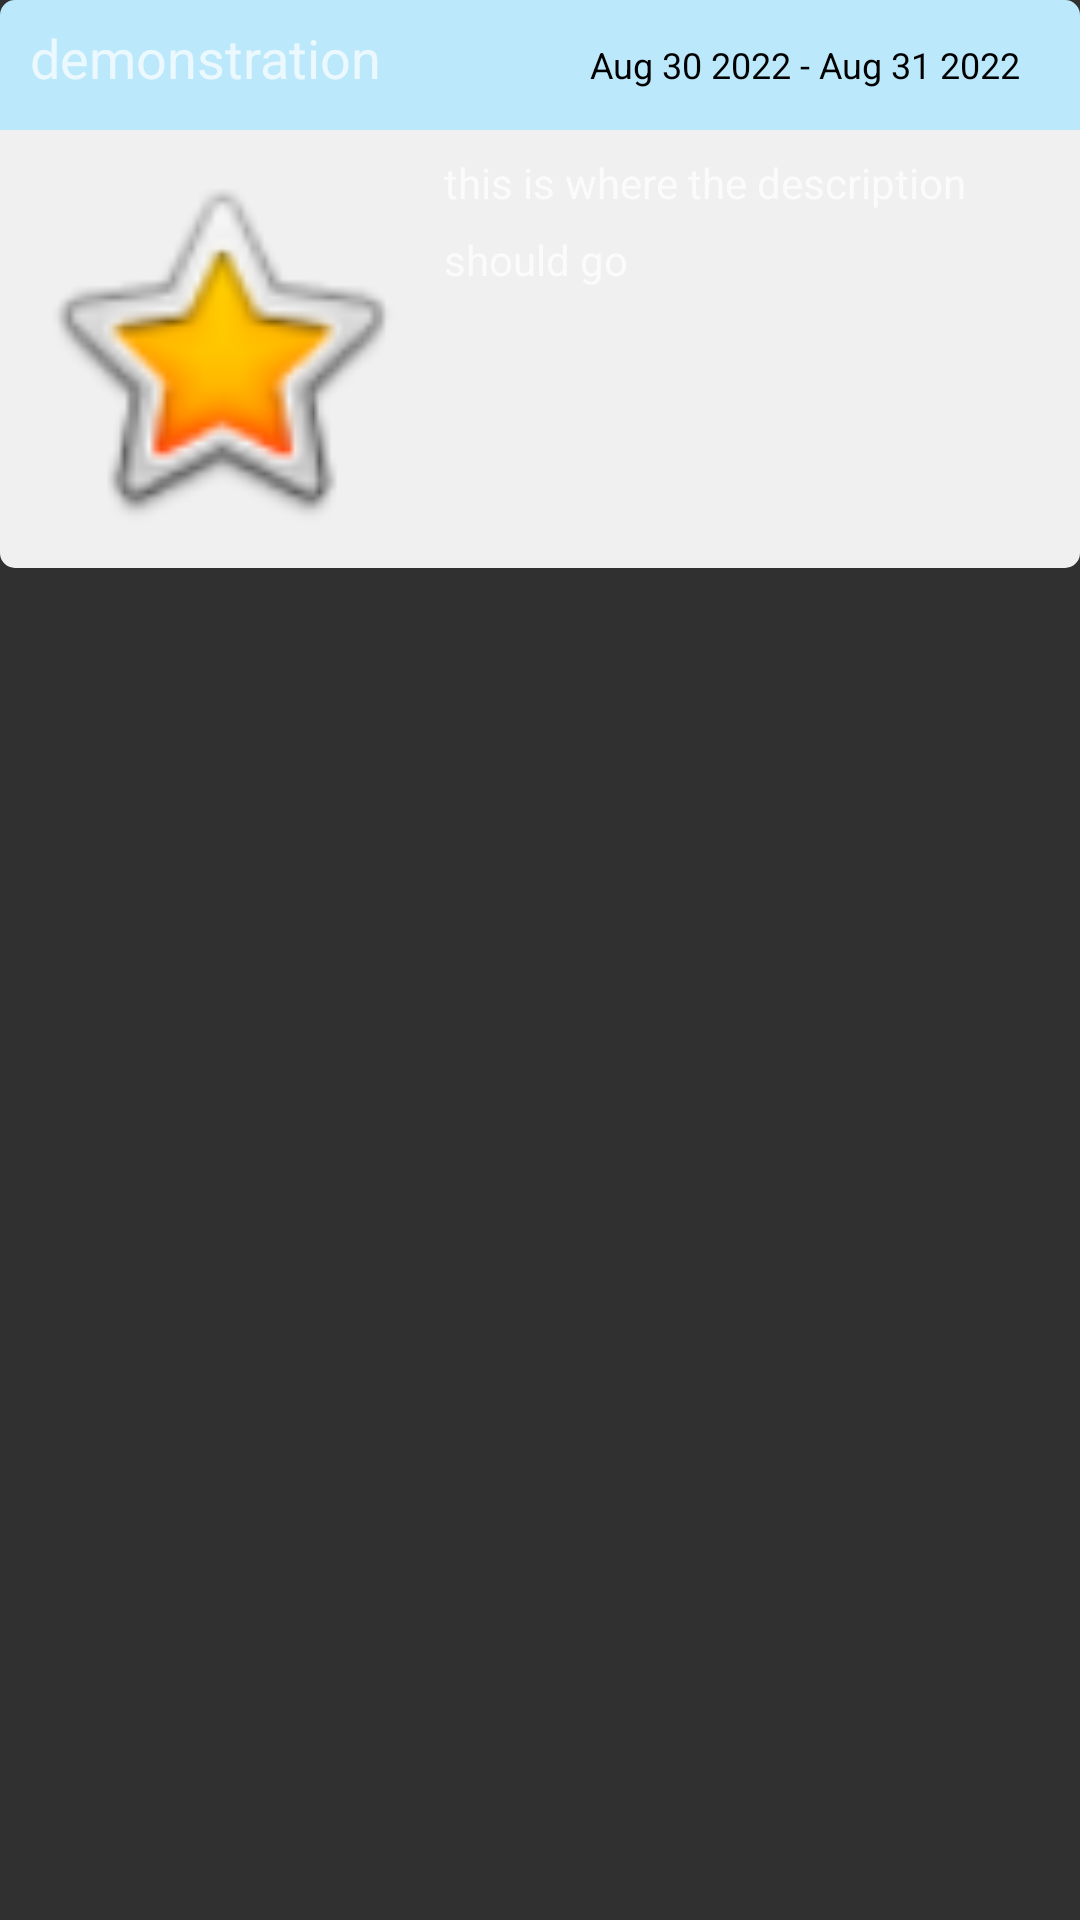

Icon bounding boxes for this 1080*1920 phone screenshot, format (x1,y1,x2,y2):
star on: (59,194,385,510)
